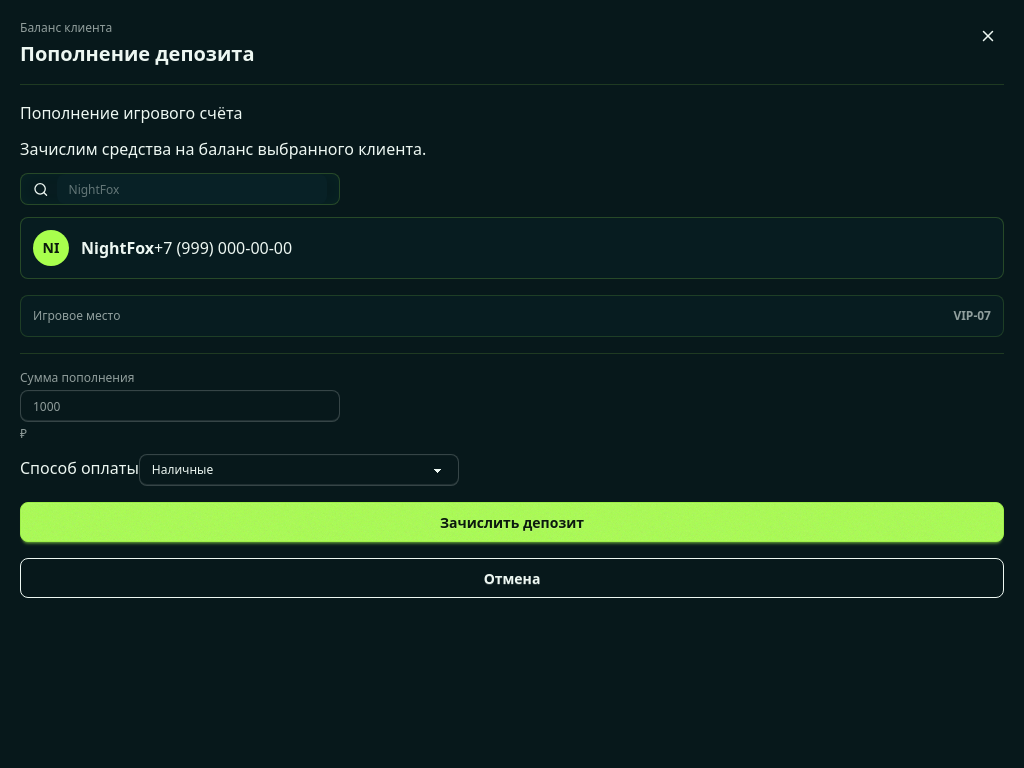
Test: Пополнение депозита › не отправляет V2 наличное пополнение без открытой кассовой смены
What coordinates should you click on to do the following:
click the button "Зачислить депозит"
I would click on:
 (512, 522)
Its box is 20,502 -> 1004,542.
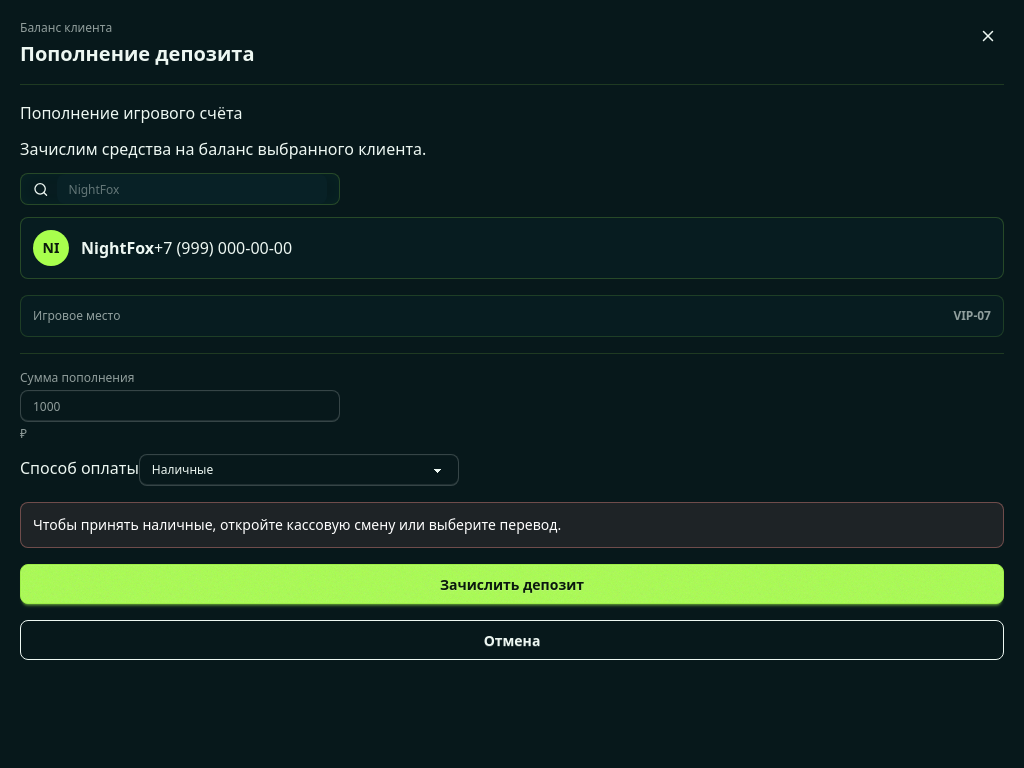
Expected: the message reads "Чтобы принять наличные, откройте кассовую смену или выберите перевод.", 33,515 -> 561,534
